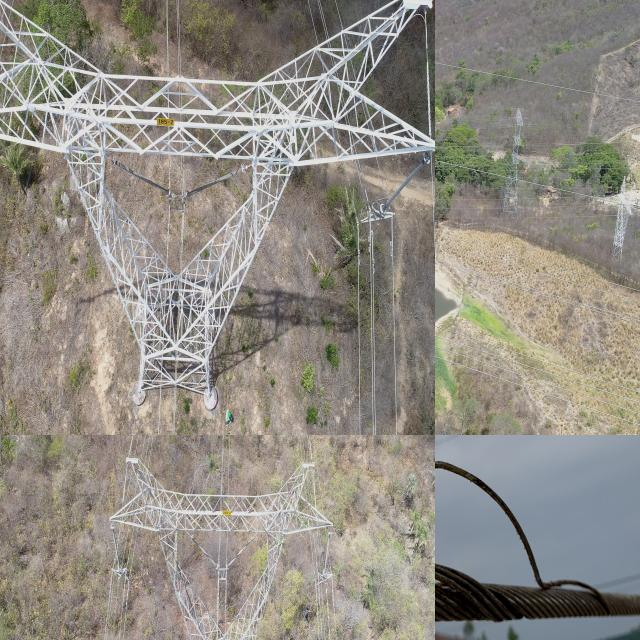杆塔: (0, 0, 435, 428), (101, 435, 348, 640), (497, 93, 528, 212), (615, 176, 632, 259)
正常绝缘子: (110, 156, 172, 200), (185, 162, 247, 201), (108, 521, 127, 576), (320, 527, 335, 580)
电缆破损: (435, 451, 616, 630)
